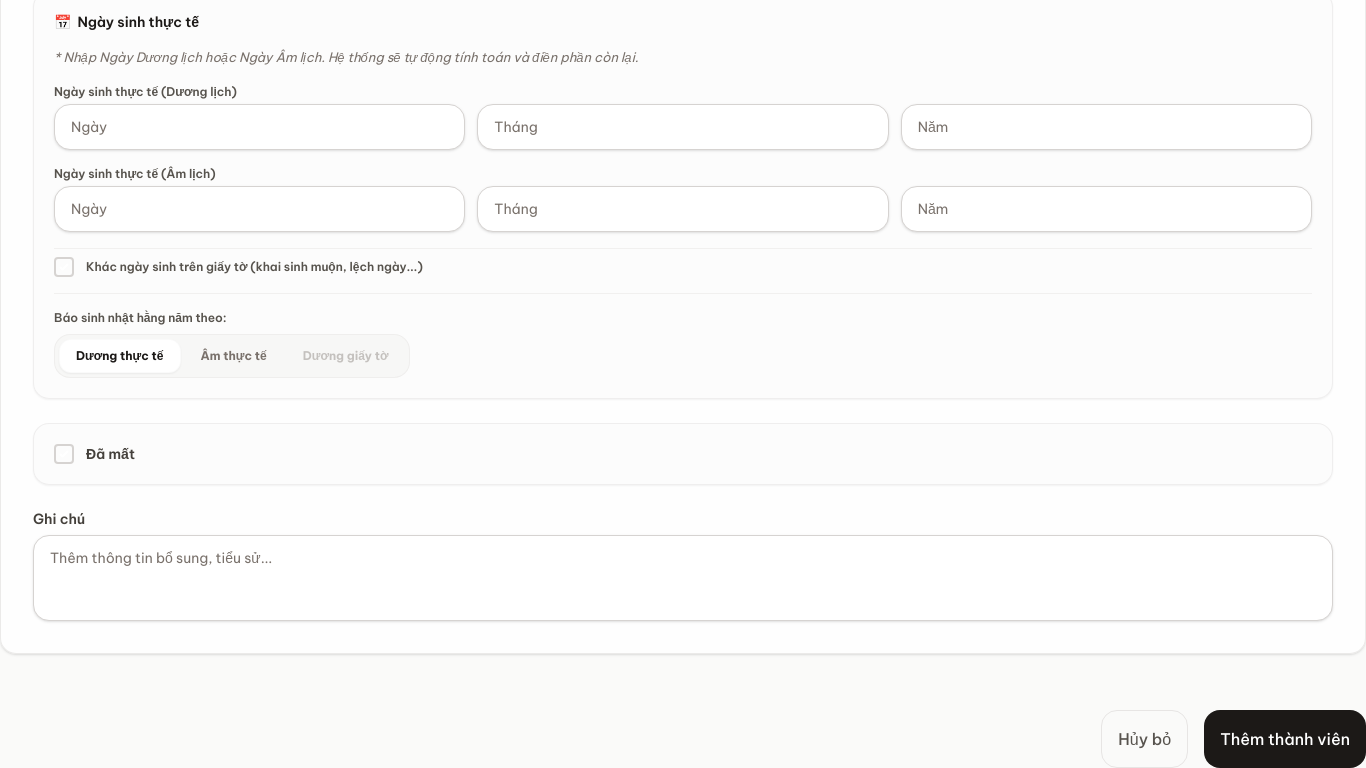
Test: MemberForm › render › hiện trường ngày mất sau khi tick 'Đã mất'
(page scrolled)
Note: checkbox dùng sr-only, click vào label wrapper
Click the checkbox labelled "Đã mất": (94, 454) [54,444,135,464]
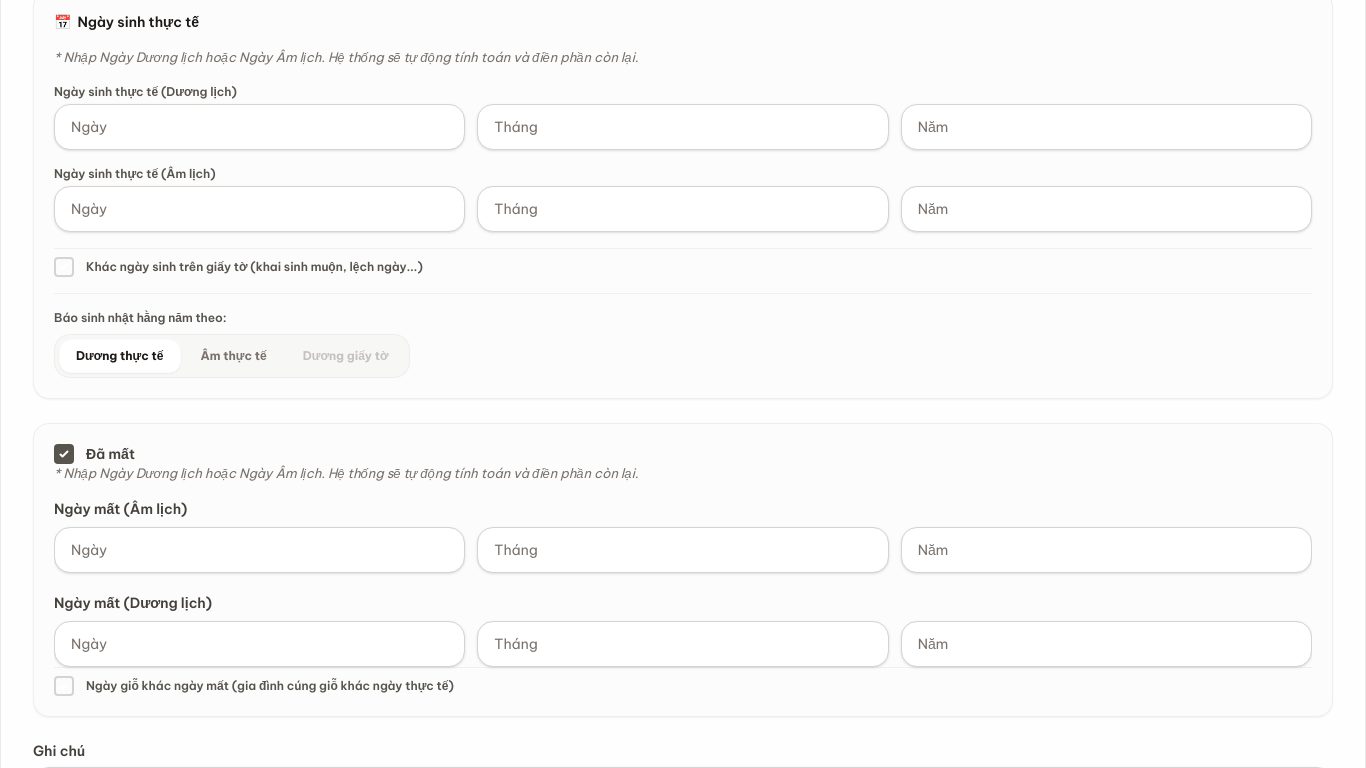
Check: the text "Ngày mất (Âm lịch)" is shown, box [54,500,187,518]
